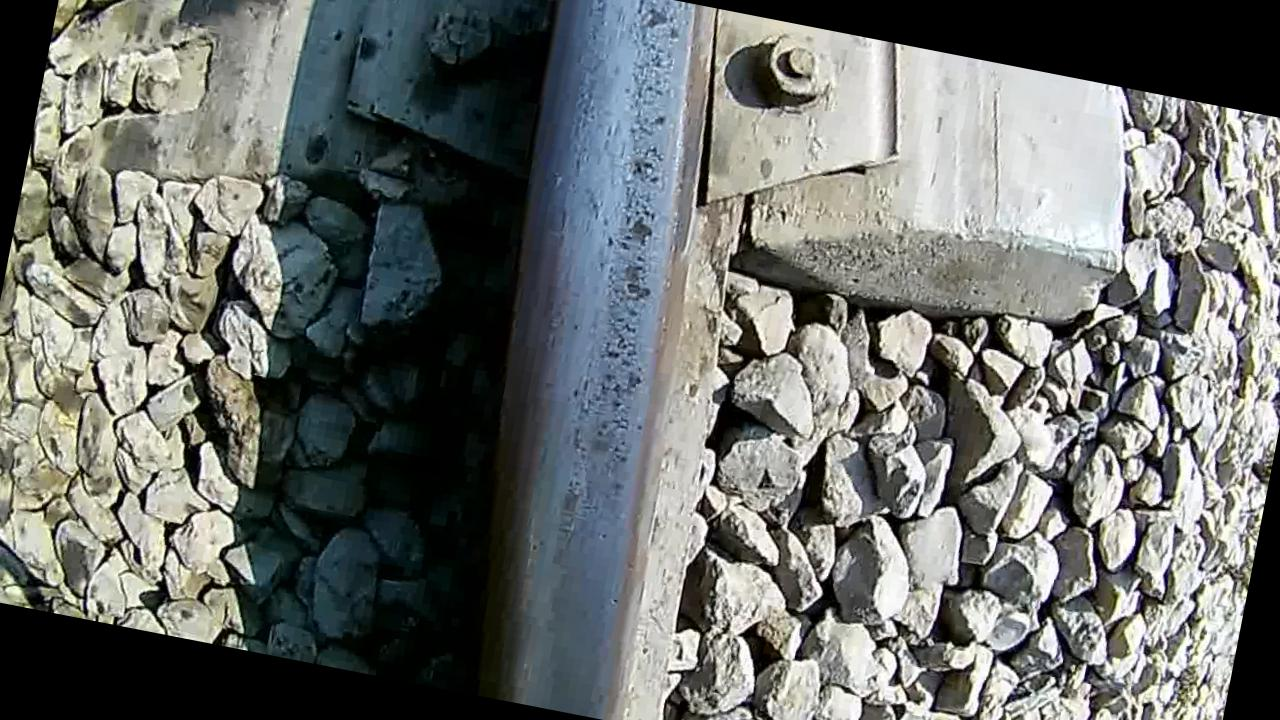crack: (427, 0, 734, 718)
